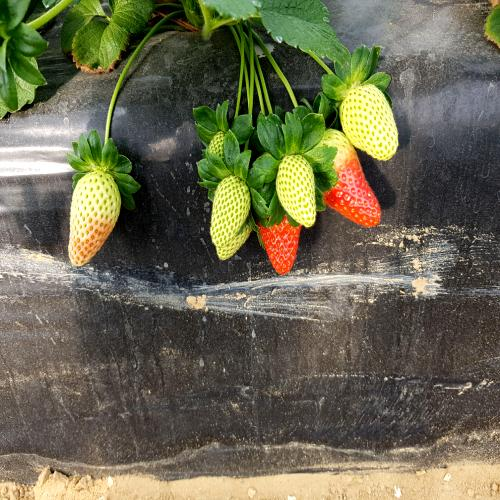unripe: (64, 166, 122, 272), (338, 79, 404, 170), (273, 148, 324, 234), (210, 162, 248, 255)
